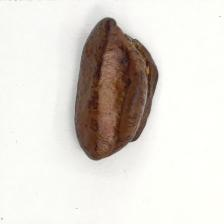NG: (100, 14, 161, 160)
